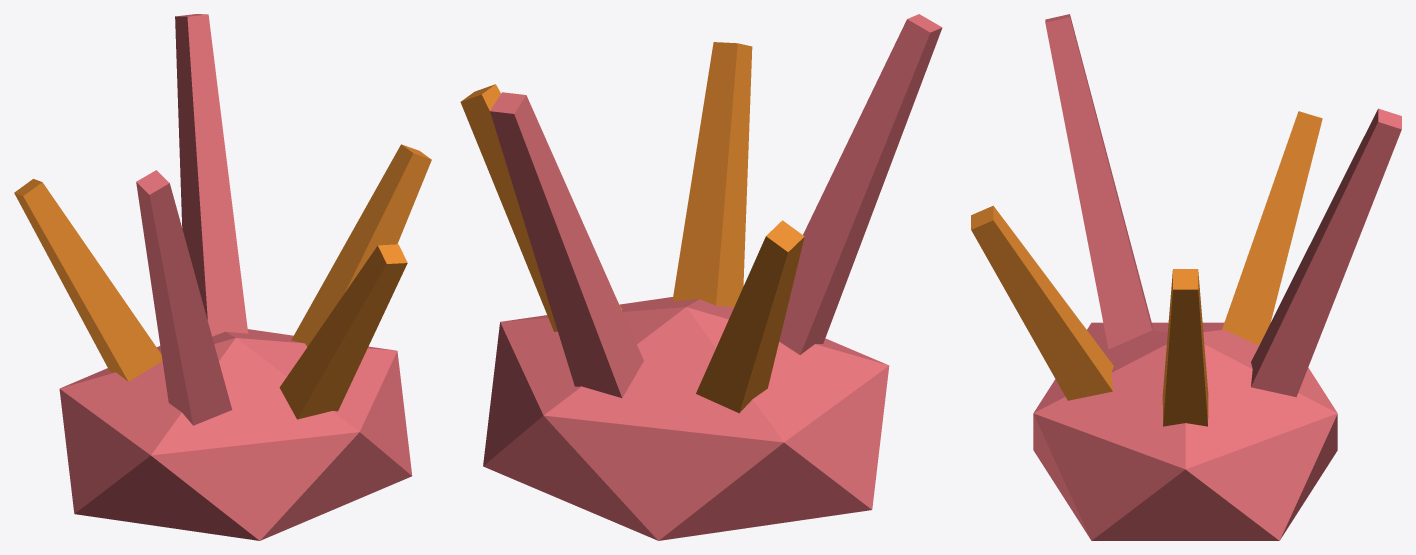
File: coral.glb
3 renders of one model, left to right at view 1: azimuth 30°, elevation 25°; view 2: azimuth 150°, elevation 25°; view 3: azimuth 270°, elevation 25°, orthographic. The views are drawn at different scales.
Visible parts, largest first — view 1: coral; view 2: coral; view 3: coral.
Boxes of the visible parts, x1,y1,x2,y2 form: coral: (14,14,431,540); coral: (460,14,942,540); coral: (971,14,1401,540).
Size of the model in its own units: 1.17 by 1.37 by 1.2.
